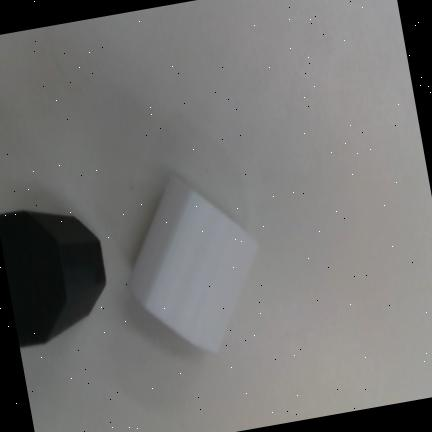Prisma_hexagonal: (129, 174, 258, 355), (0, 211, 107, 347)
